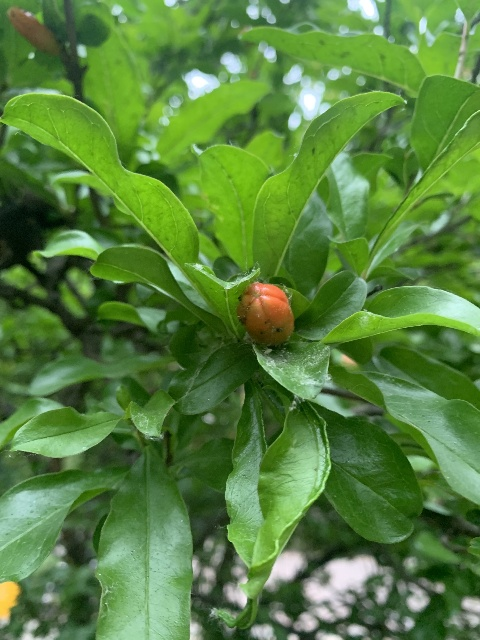bud: (237, 282, 294, 346)
